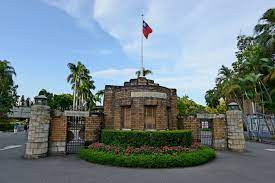flag: (132, 11, 153, 82)
